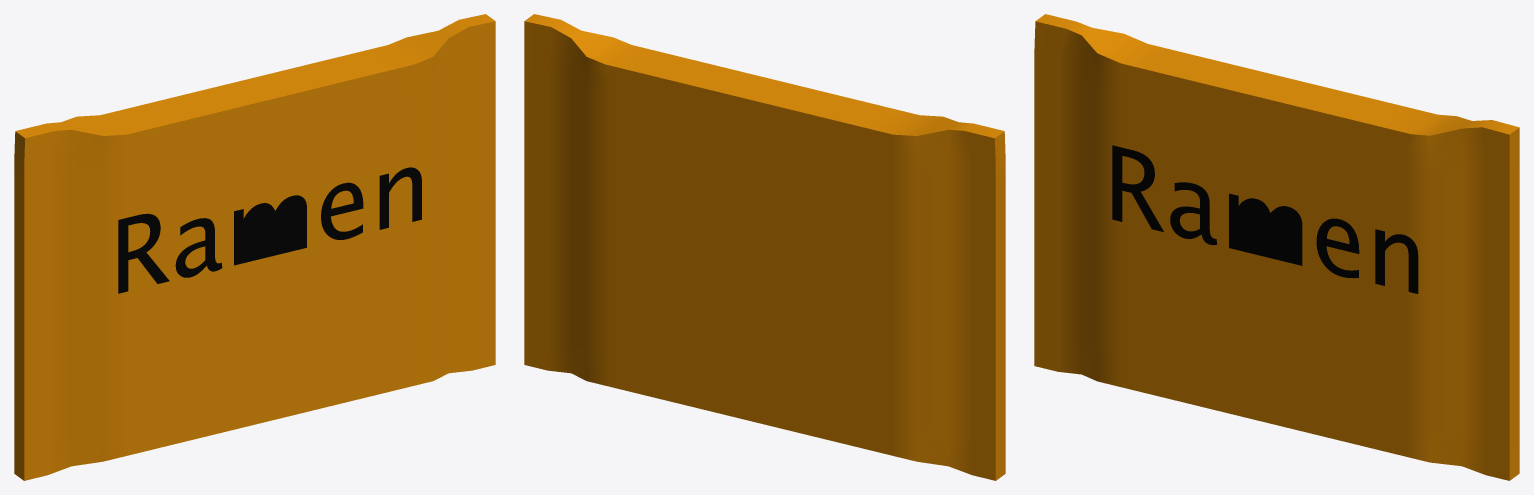
The model's file is ramen.fbx.
3 renders of one model, left to right at view 1: azimuth 30°, elevation 25°; view 2: azimuth 150°, elevation 25°; view 3: azimuth 330°, elevation 25°, orthographic.
Visible parts, largest first — view 1: pCube1, typeMesh1; view 2: pCube1; view 3: pCube1, typeMesh1.
Part boxes in pixels (<box>): pCube1: <box>14,14,495,480</box>; typeMesh1: <box>118,167,421,293</box>; pCube1: <box>524,14,1005,480</box>; pCube1: <box>1034,14,1519,480</box>; typeMesh1: <box>1112,145,1418,293</box>.
Bounding box in the file's own units: 11.85 × 8.3 × 1.17.
